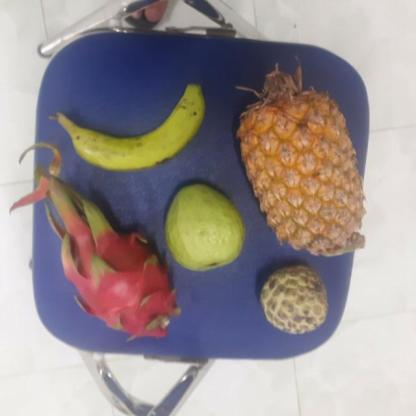annona: (258, 266, 328, 333)
banana: (55, 89, 202, 171)
guava: (160, 183, 245, 270)
pineapple: (238, 89, 362, 257)
pitaya: (64, 225, 175, 339)
